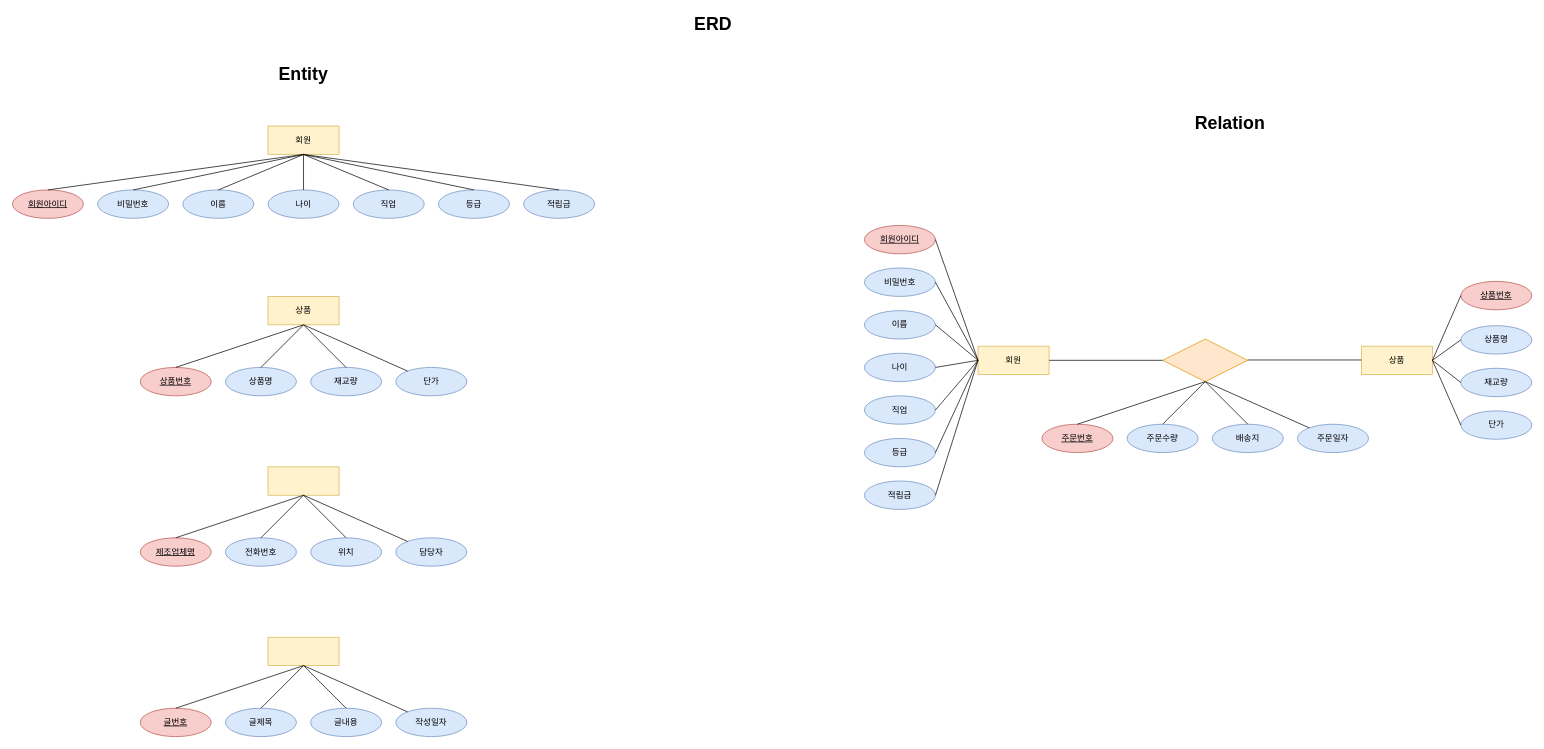
Some shapes in this 1544 by 749 pixel diagram are drawn without their labels. The shapes that lost their labels are listed below. From the top down, each one's box as (x1, y1, x2, y2) in pixels, then its label:
(1162, 338, 1248, 382): 주문
(267, 466, 339, 495): 제조업체
(267, 637, 339, 666): 게시글
